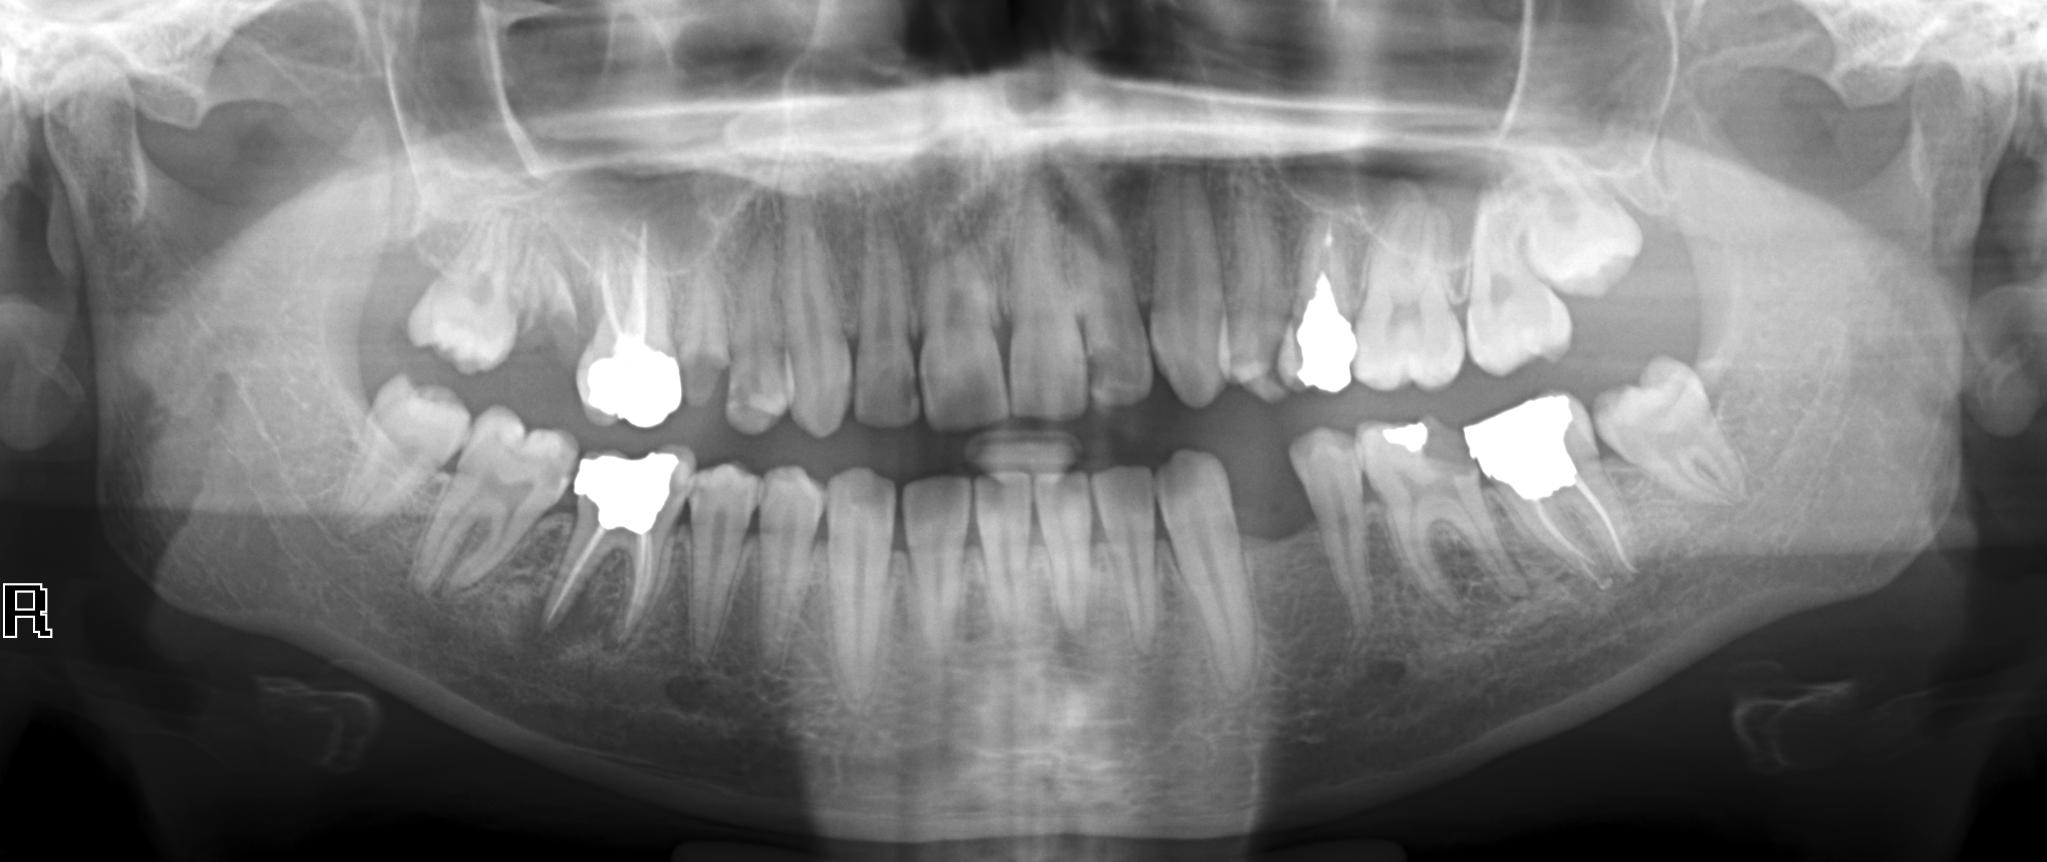Implant: (1462, 388, 1634, 584), (525, 441, 688, 645), (565, 212, 689, 435), (1283, 201, 1367, 402)
